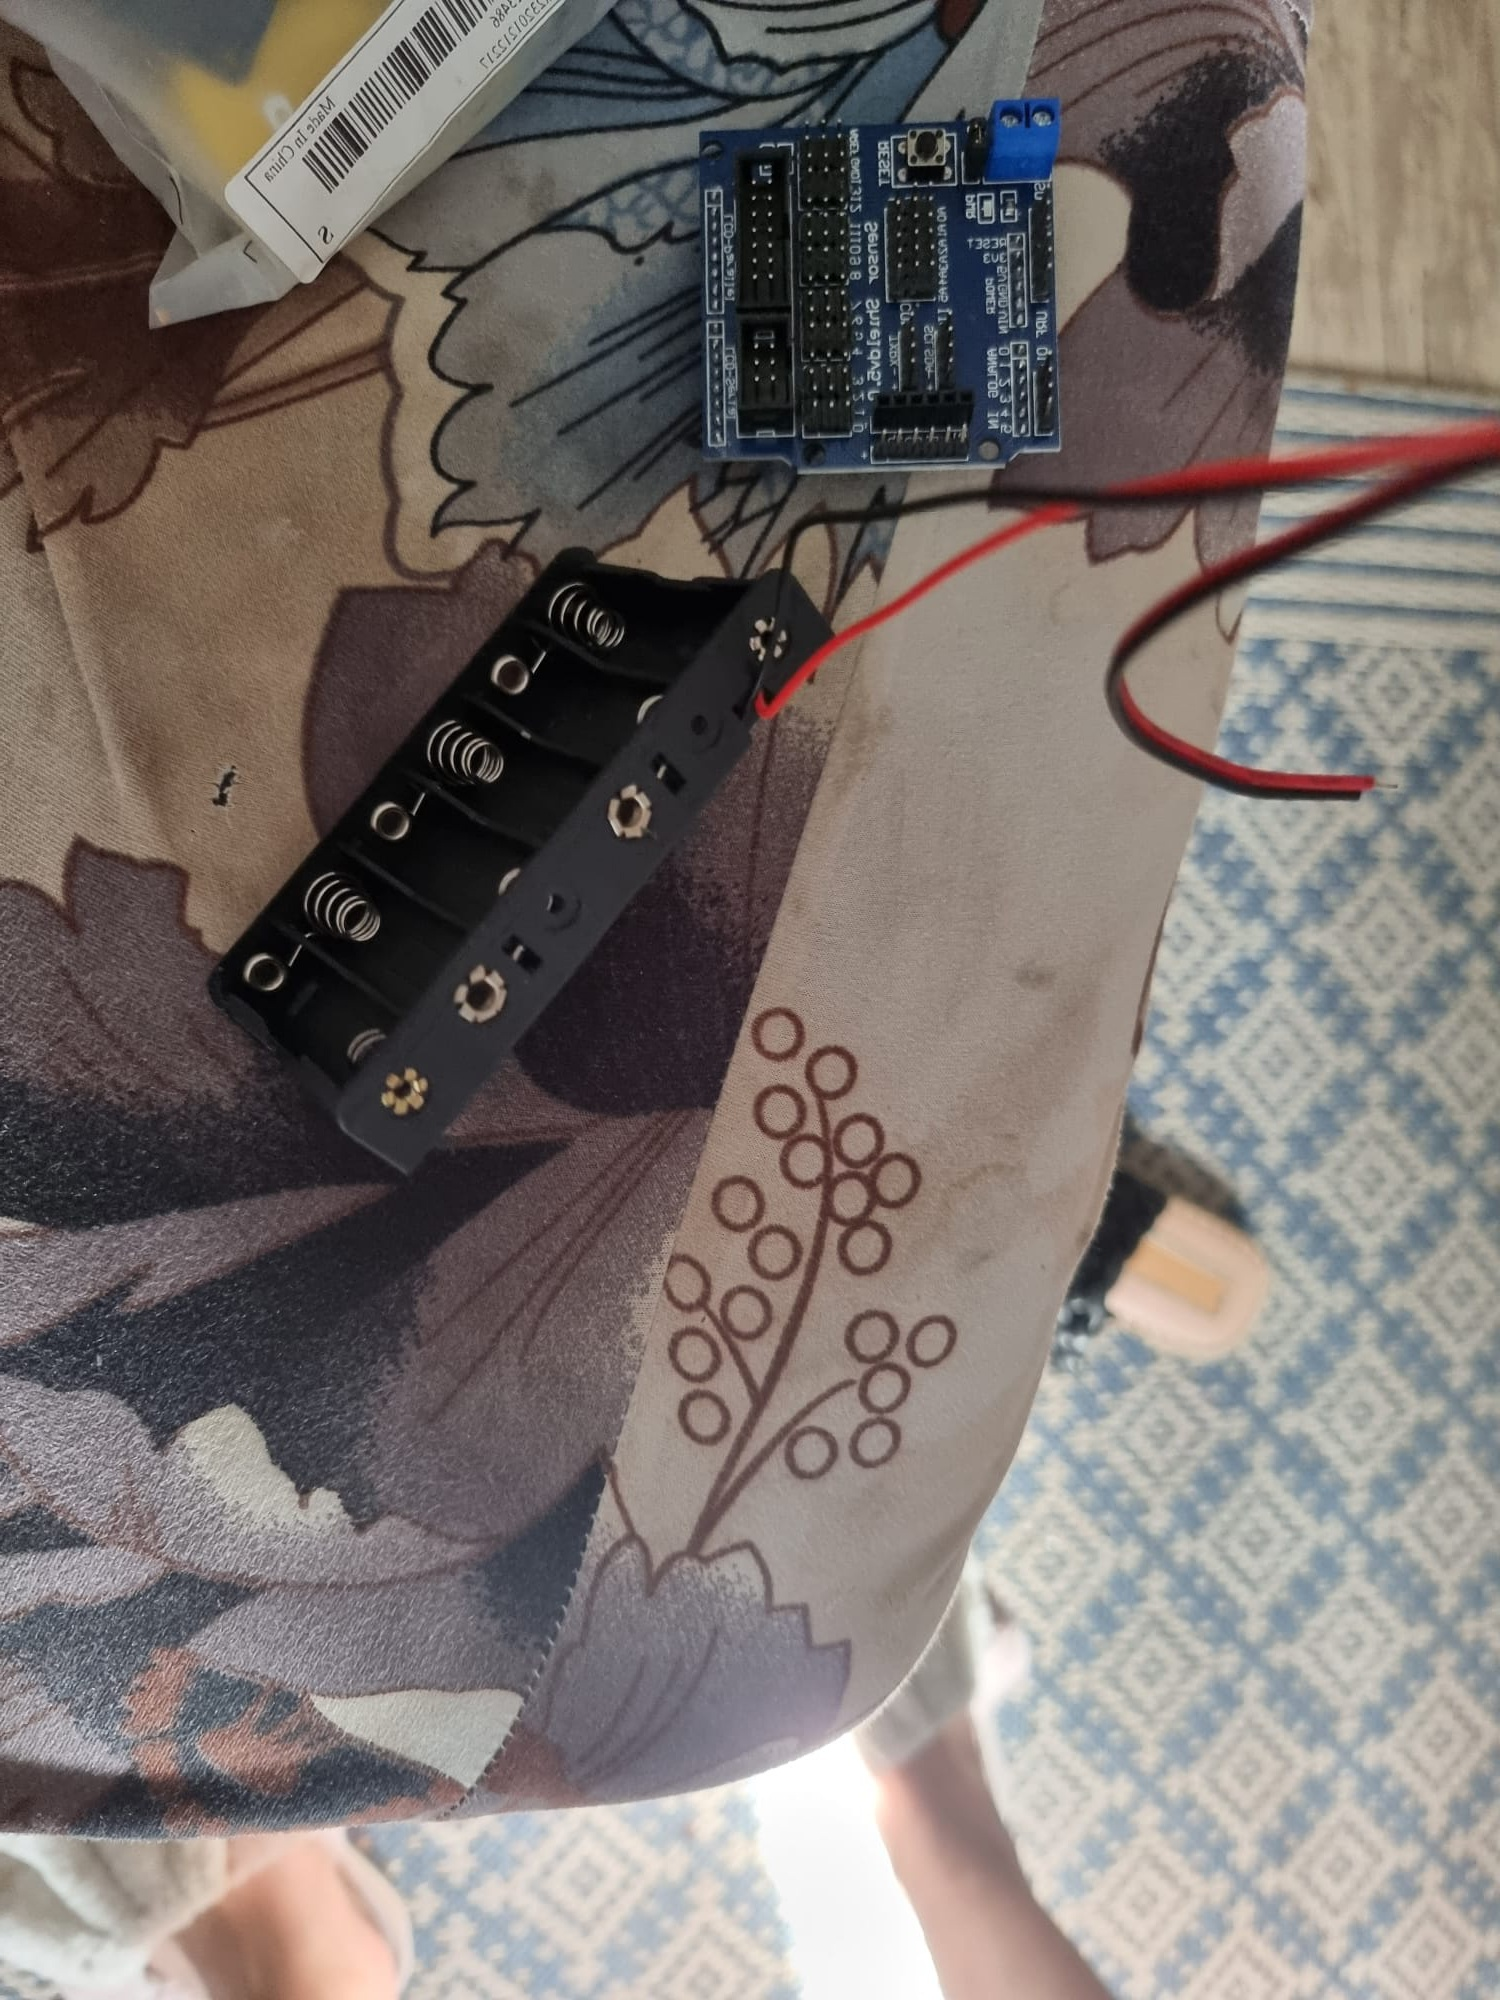5V EXPANSION: (700, 85, 1075, 485)
BATTERY BOX: (205, 561, 796, 1202)
